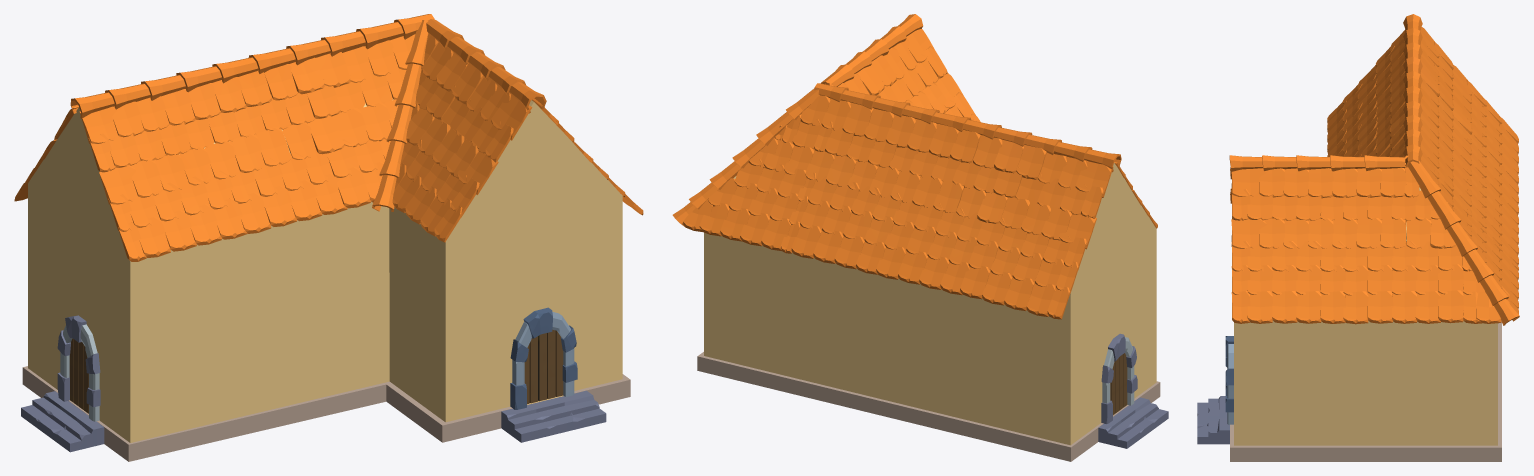
File: mod_BG_House.fbx
3 renders of one model, left to right at view 1: azimuth 30°, elevation 25°; view 2: azimuth 150°, elevation 25°; view 3: azimuth 270°, elevation 25°, orthographic. The views are drawn at different scales.
Parts seen in each view (by area): view 1: House; view 2: House; view 3: House.
Boxes of the visible parts, left/top/right/bottom form: House: left=14, top=14, right=643, bottom=461; House: left=672, top=14, right=1168, bottom=461; House: left=1197, top=14, right=1519, bottom=461.
Bounding box in the file's own units: 1277 × 792 × 861.
